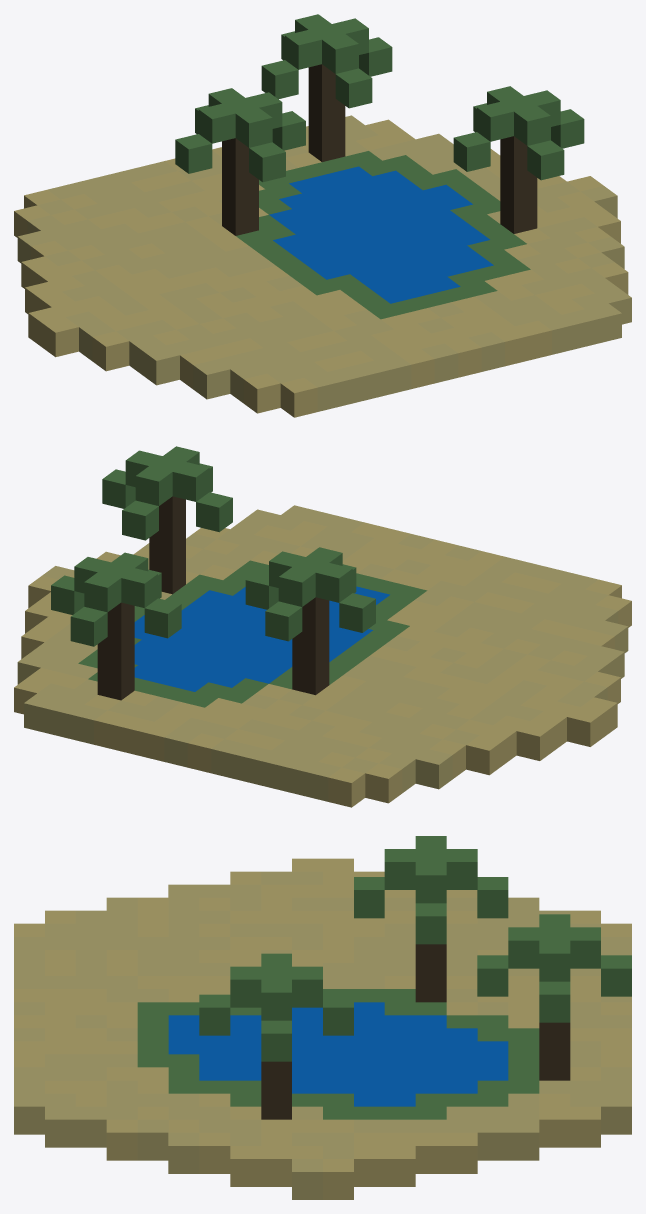
Rendered from overworld-34-sand_oasis.obj.
The picture shows the model from 3 angles, top to bottom: view 1: azimuth 30°, elevation 25°; view 2: azimuth 150°, elevation 25°; view 3: azimuth 270°, elevation 25°; orthographic projection. The views are drawn at different scales.
Parts seen in each view (by area): view 1: sand_oasis; view 2: sand_oasis; view 3: sand_oasis.
Boxes of the visible parts, bbox=[...] form: sand_oasis: bbox=[14, 14, 631, 417]; sand_oasis: bbox=[14, 446, 631, 807]; sand_oasis: bbox=[14, 836, 631, 1199].
Size of the model in its own units: 2.4 by 0.6 by 2.
Materials: 1 (1 with a texture image).
